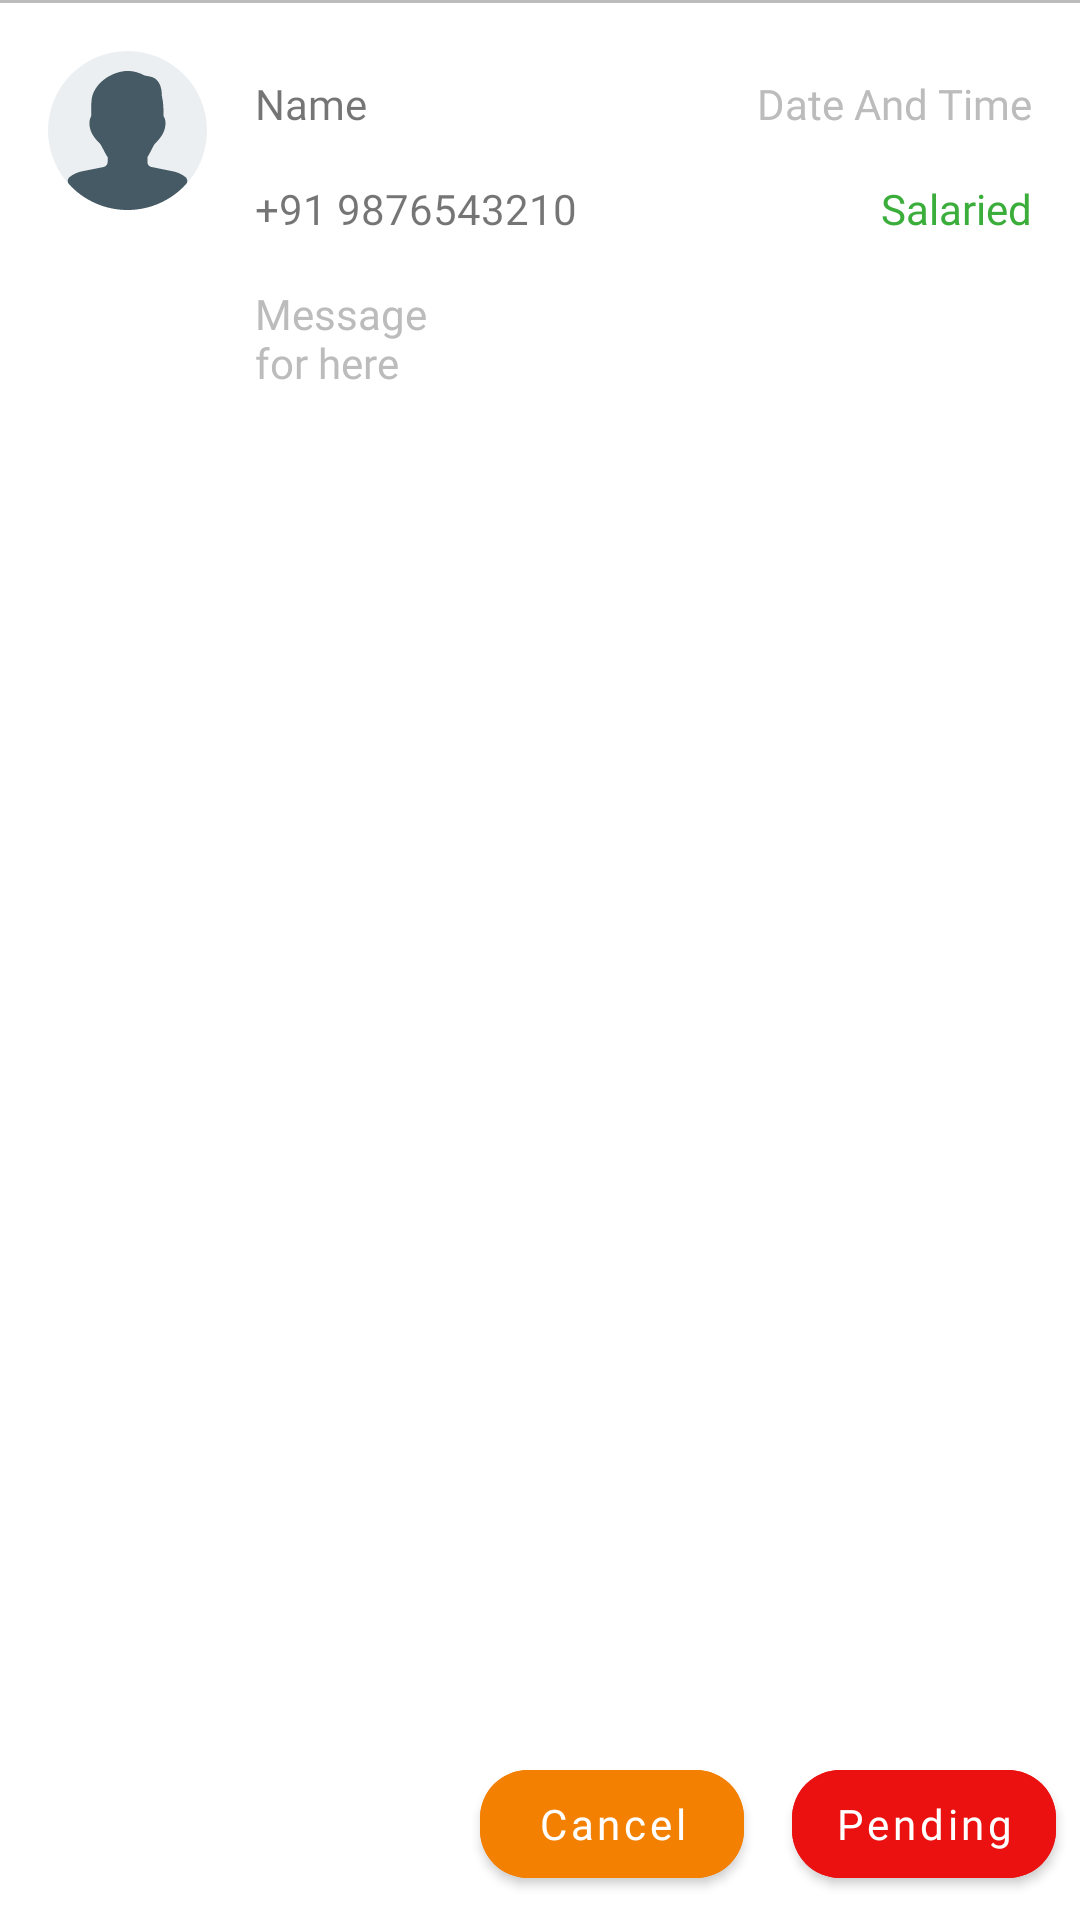

Screen size 1080px×1920px. Icon name, then its center in pixels as (x,y):
user: (127,140)
